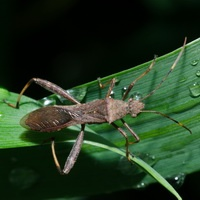insect: (123, 38, 199, 183), (68, 123, 154, 193), (68, 61, 151, 101), (125, 48, 180, 101)
